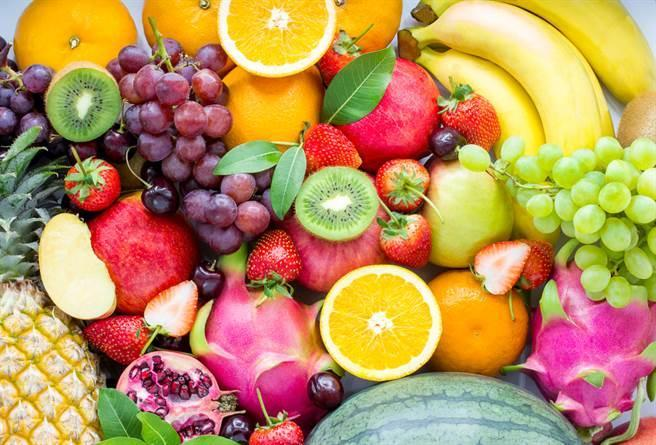apple: (87, 192, 199, 315), (324, 57, 441, 164), (421, 154, 513, 267)
